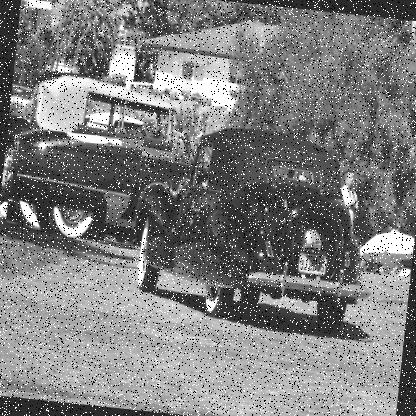Car: (126, 117, 388, 331), (0, 66, 199, 242), (5, 127, 211, 251)
